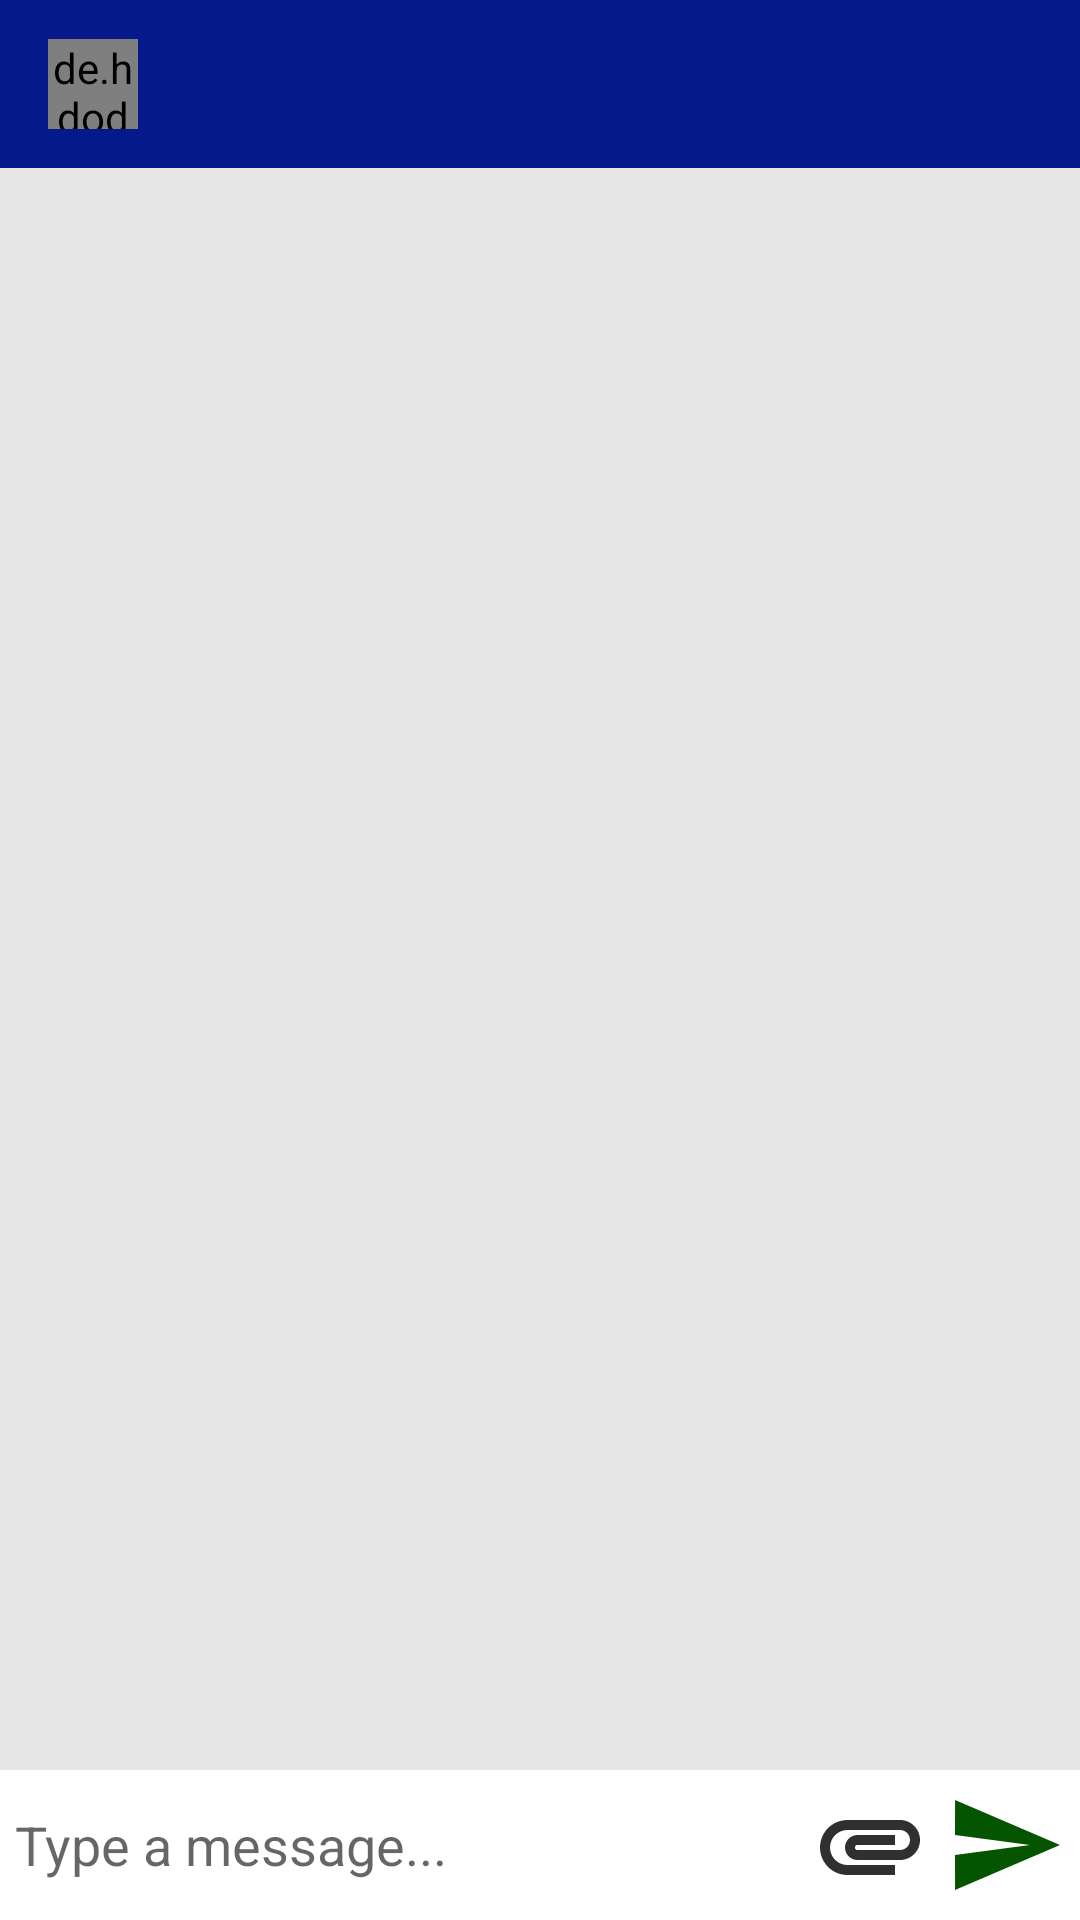

Icons on this 1080px x 1920px Android screen, each with its box as (x1, y1, x2, y2):
attachment: (820, 1820, 920, 1875)
send: (955, 1800, 1060, 1890)
